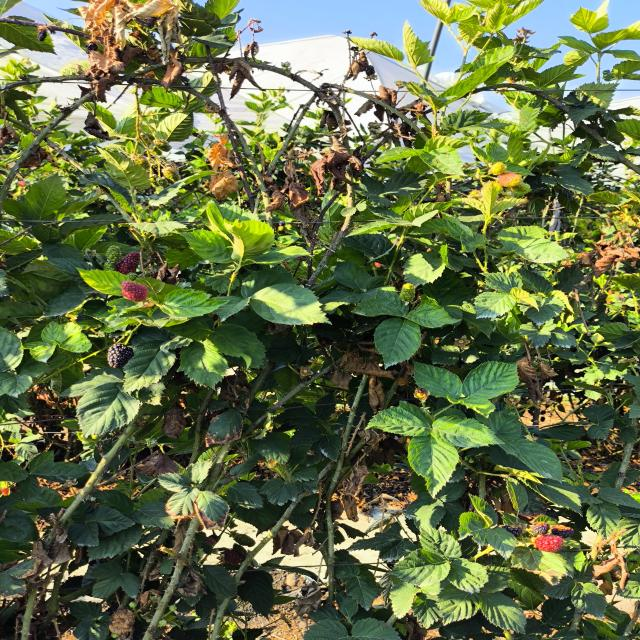maduro: (107, 344, 133, 368)
marron: (116, 251, 140, 274)
naranja: (121, 280, 148, 302), (534, 535, 563, 552)
verde: (497, 173, 522, 188), (399, 283, 415, 302), (509, 182, 531, 195), (106, 245, 121, 262), (489, 162, 507, 175)
